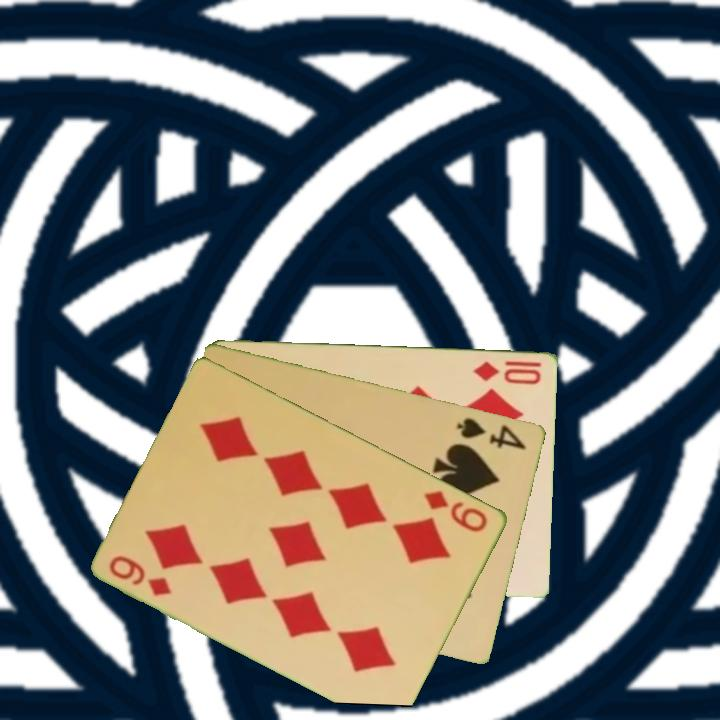10d: (470, 356, 545, 387)
4s: (453, 414, 530, 452)
9d: (420, 487, 491, 535), (106, 551, 176, 599)
